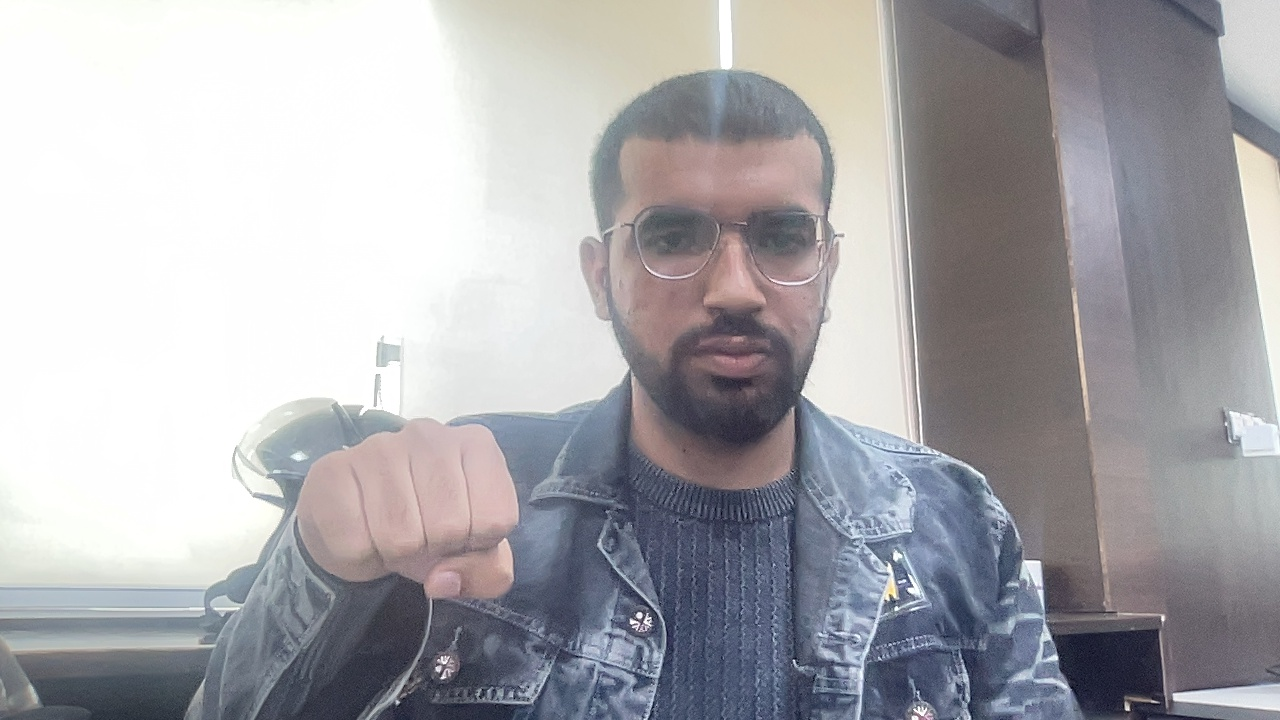Yes: (230, 425, 592, 602)
